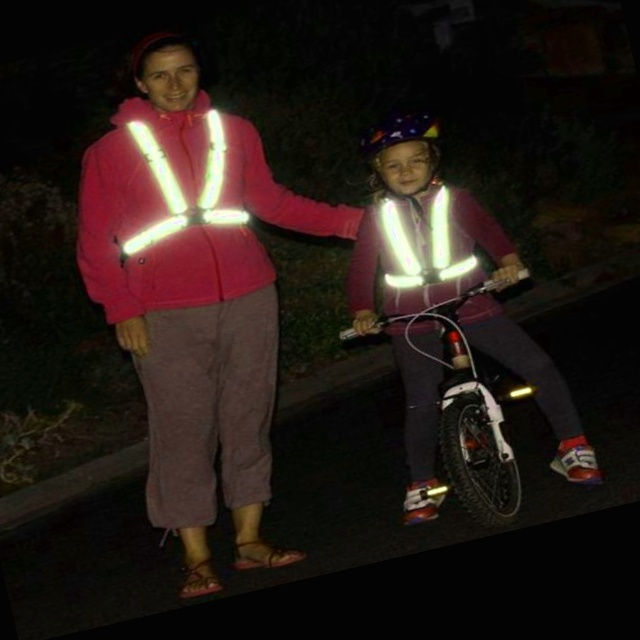Con_Chaleco: (88, 89, 276, 282), (359, 177, 496, 307)
